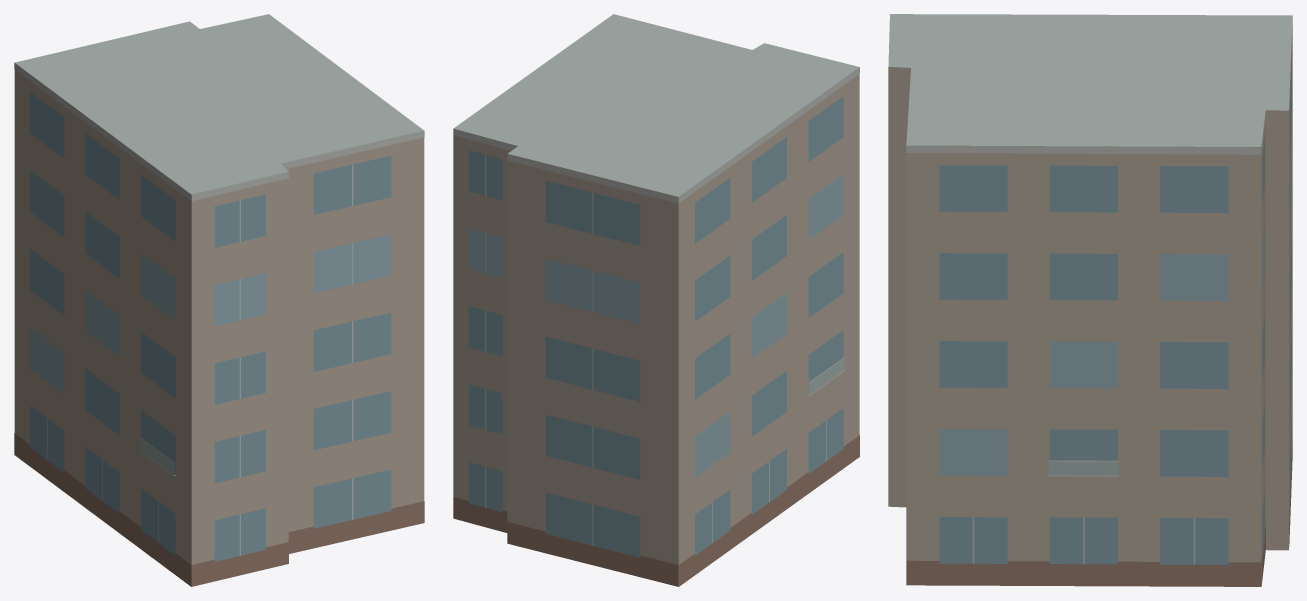
Rendered from survey-upis-32962667.glb.
3 renders of one model, left to right at view 1: azimuth 30°, elevation 25°; view 2: azimuth 150°, elevation 25°; view 3: azimuth 270°, elevation 25°, orthographic. The views are drawn at different scales.
Visible parts, largest first — view 1: survey-upis-32962667.tmp; view 2: survey-upis-32962667.tmp; view 3: survey-upis-32962667.tmp.
Part boxes in pixels (x1=…): survey-upis-32962667.tmp: x1=14, y1=14, x2=424, y2=586; survey-upis-32962667.tmp: x1=453, y1=14, x2=859, y2=586; survey-upis-32962667.tmp: x1=888, y1=14, x2=1292, y2=586.
Size of the model in its own units: 9.32 by 14.3 by 11.92.
